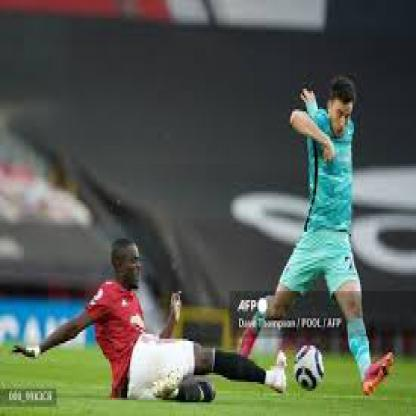Fall_Down: (9, 233, 288, 404)
